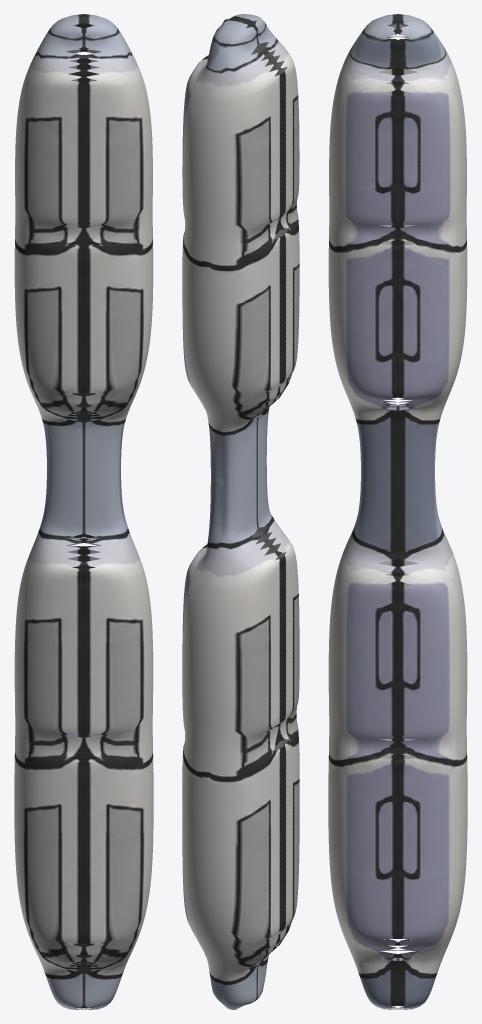
Rendered from segmented_post.glb.
3 views of the same model, side by side, from view 1: azimuth 90°, elevation 25°; view 2: azimuth 150°, elevation 25°; view 3: azimuth 270°, elevation 25° (orthographic).
Parts seen in each view (by area): view 1: segmented_post; view 2: segmented_post; view 3: segmented_post.
Part boxes in pixels (x1=…): segmented_post: x1=14, y1=14, x2=153, y2=1009; segmented_post: x1=182, y1=14, x2=299, y2=1009; segmented_post: x1=328, y1=14, x2=467, y2=1009.
Bounding box in the file's own units: 0.89 × 9.9 × 1.26.
1 material, 1 textured.
